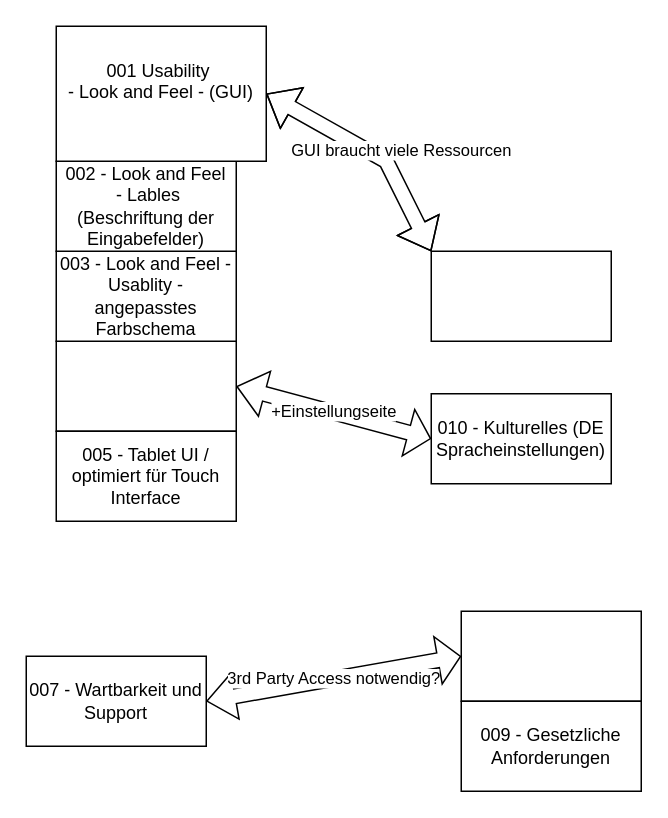
The diagram is 668 pixels wide and 818 high, and some of its shapes have lost their labels. Here are the shapes that lost their labels. From the top down, the centre of each, then its label:
At [520,295]: "006 - Performance - schnelle Antwortzeit".
At [145,385]: "004 - Look and Feel-GUI-wenige Tabs/Slides".
At [550,655]: "008 - Datensicherheit".
